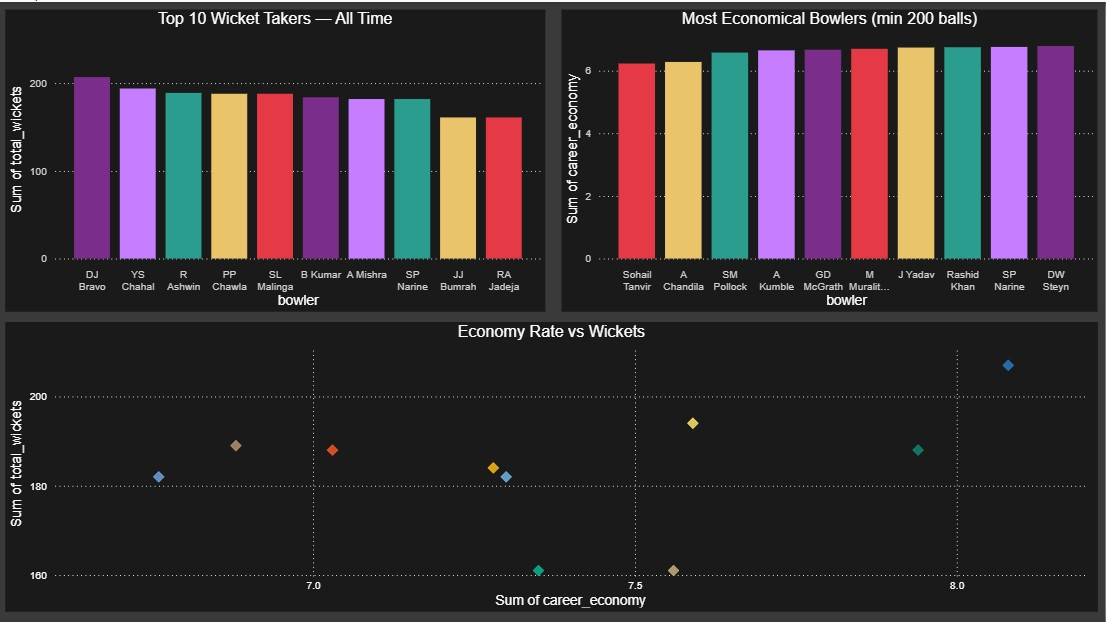

Layout of this report page (visuals, bound fields, positions):
{"tool":"powerbi","page":{"name":"Bowling Stats","canvas":[1280,720],"ordinal":2},"visuals":[{"type":"clusteredColumnChart","title":"Top 10 Wicket Takers — All Time","fields":{"Category":["top_wicket_takers.bowler"],"Y":["Sum(top_wicket_takers.total_wickets)"]},"box":[7.2,8.7,624.7,349.9],"z":0},{"type":"clusteredColumnChart","title":"Most Economical Bowlers (min 200 balls)","fields":{"Category":["best_economy_rates.bowler"],"Y":["Sum(best_economy_rates.career_economy)"]},"box":[650.7,8.7,620.3,349.9],"z":1000},{"type":"scatterChart","title":"Economy Rate vs Wickets","fields":{"X":["Sum(top_wicket_takers.career_economy)"],"Y":["Sum(top_wicket_takers.total_wickets)"],"Category":["top_wicket_takers.bowler"]},"box":[7.2,370.2,1263.8,335.5],"z":2000}]}

Visuals, with their boxes in screenshot pixels (x1, y1, x2, y2), scaled from the page's 1280x720 canvas onto the 1106x622 screenshot:
"Top 10 Wicket Takers — All Time" clusteredColumnChart: (6, 8, 546, 310)
"Most Economical Bowlers (min 200 balls)" clusteredColumnChart: (562, 8, 1098, 310)
"Economy Rate vs Wickets" scatterChart: (6, 320, 1098, 610)
